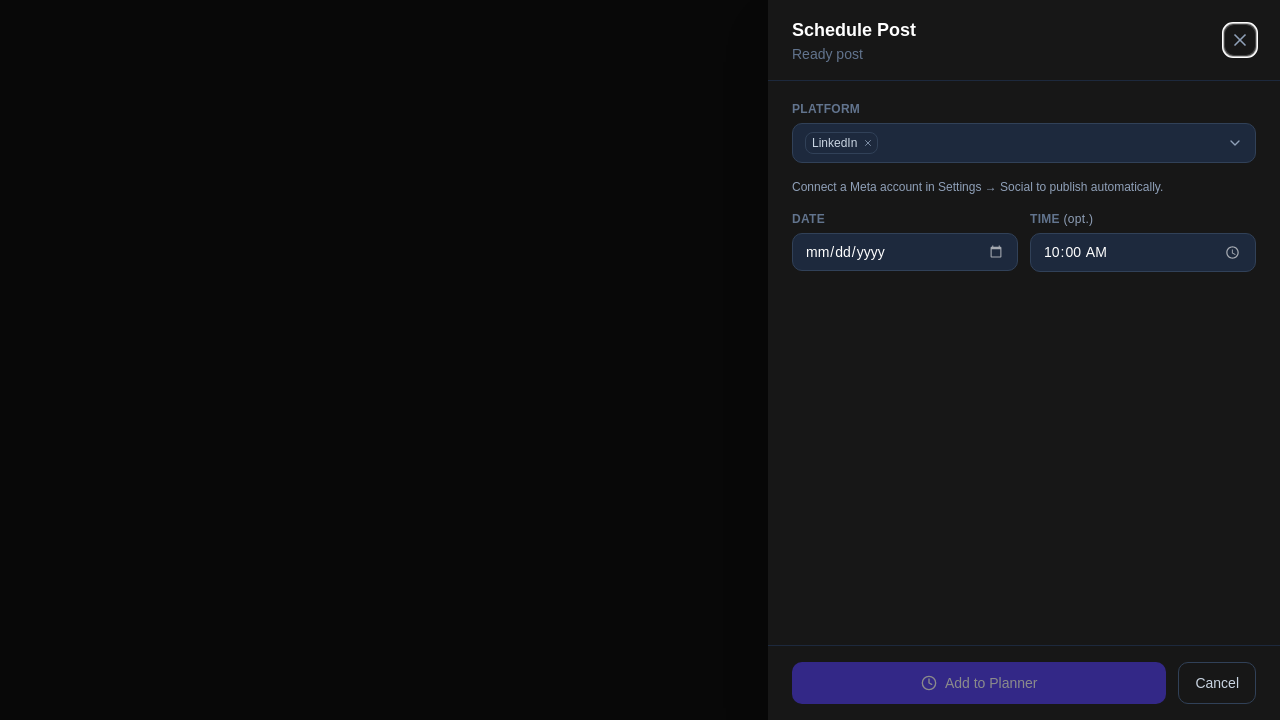
ScheduleDrawer › shows the draft title and keeps submit disabled until a date is picked
This screenshot has width=1280, height=720.
Check: the text "Ready post" is shown, box [792,46,863,62]
Check: the button "Add to Planner" is disabled, box [792,662,1166,704]
In the date field labelled "Date": (905, 252) [792,233,1018,271], type "2026-07-01"
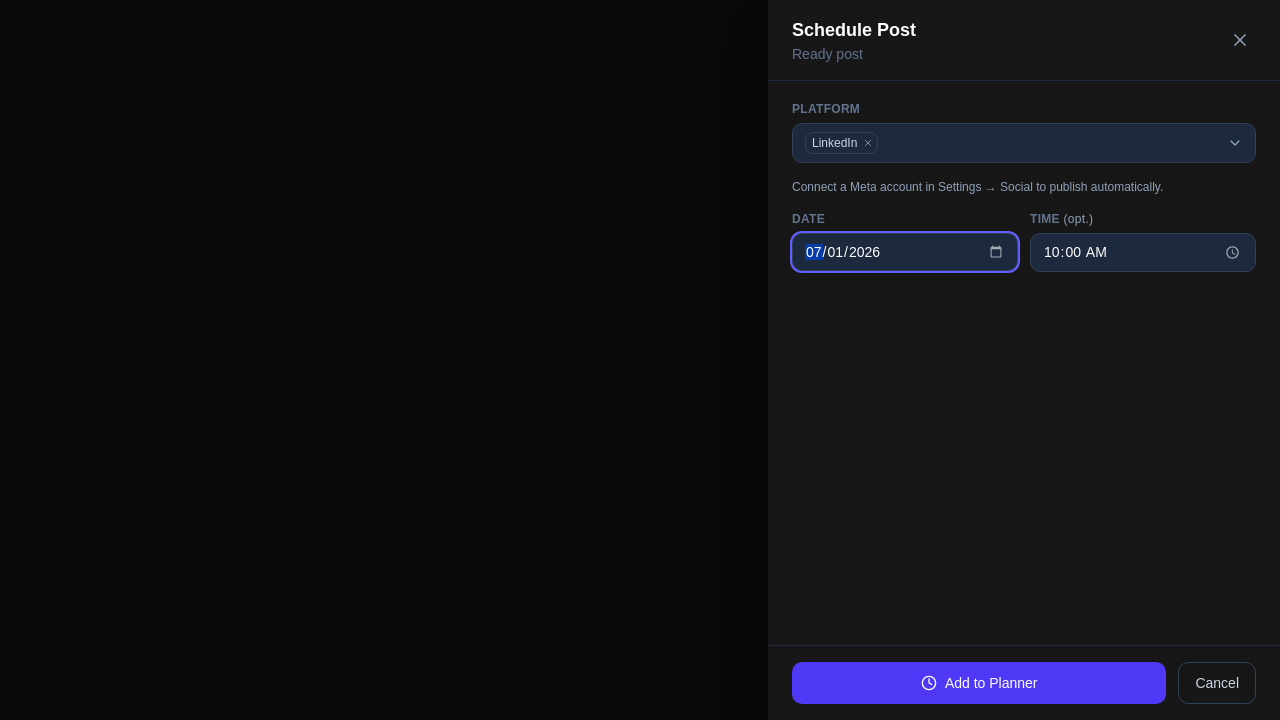
Check: the button "Add to Planner" is enabled, box [792,662,1166,704]
